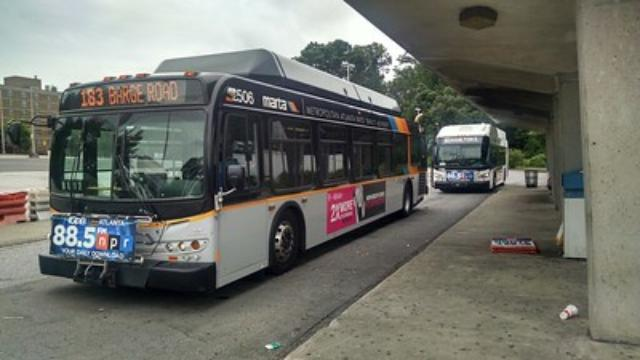bus: (37, 50, 429, 299), (427, 122, 510, 192)
